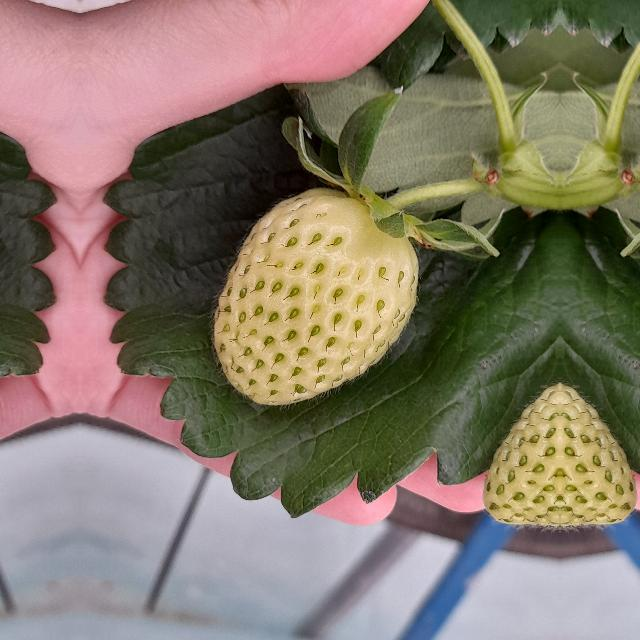Health_25: (214, 187, 418, 405)
